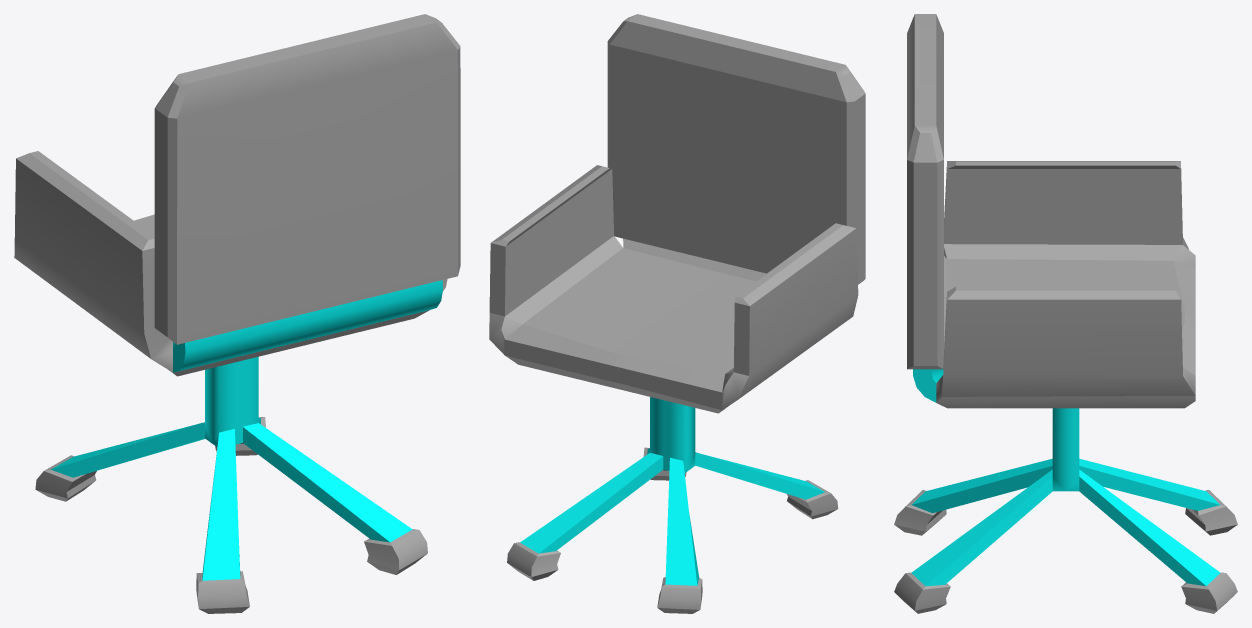
Rendered from chair_v1 1.fbx.
The picture shows the model from 3 angles, left to right: view 1: azimuth 30°, elevation 25°; view 2: azimuth 150°, elevation 25°; view 3: azimuth 270°, elevation 25°; orthographic projection. The views are drawn at different scales.
Parts seen in each view (by area): view 1: Silla; view 2: Silla; view 3: Silla.
Part boxes in pixels (bbox=[...]): Silla: bbox=[14, 14, 460, 613]; Silla: bbox=[489, 14, 865, 613]; Silla: bbox=[894, 14, 1237, 613].
Bounding box in the file's own units: 167 × 278 × 174.
